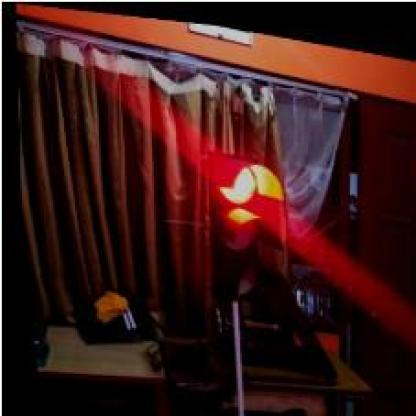red: (194, 147, 290, 307)
